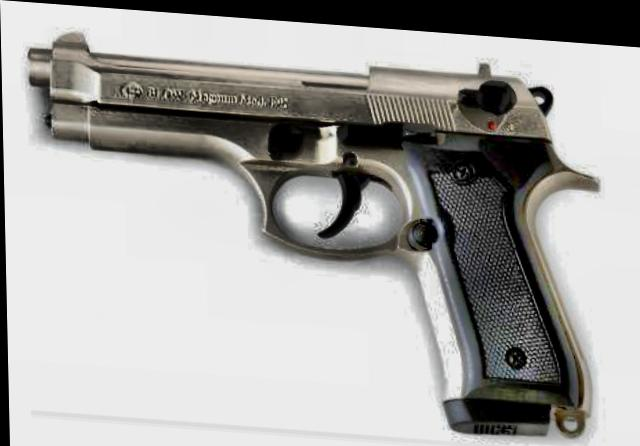pistol: (24, 23, 603, 435)
